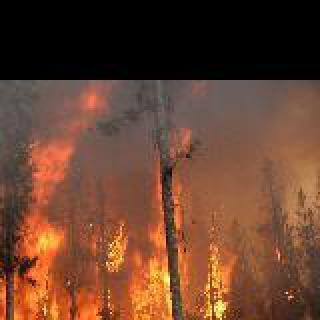fire: (0, 94, 314, 320)
